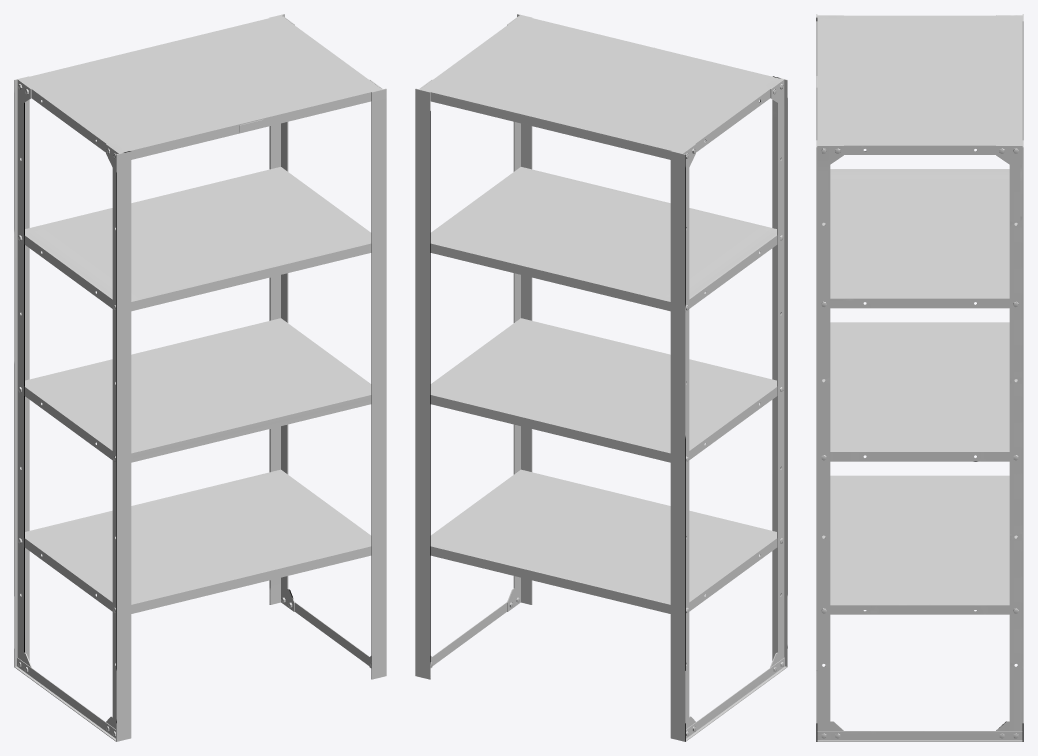
The model's file is 4b94c4f8-45c6-4e66-aaeb-ea2221b5f29e.glb.
3 views of the same model, side by side, from view 1: azimuth 30°, elevation 25°; view 2: azimuth 150°, elevation 25°; view 3: azimuth 270°, elevation 25° (orthographic).
Visible parts, largest first — view 1: worn_metal_rack; view 2: worn_metal_rack; view 3: worn_metal_rack.
Part boxes in pixels (x1,y1,x2,y2): worn_metal_rack: (14, 14, 386, 741); worn_metal_rack: (415, 14, 787, 741); worn_metal_rack: (816, 14, 1023, 741).
Size of the model in its own units: 0.9154 by 1.9 by 0.6.
Materials: 1 (1 with a texture image).
